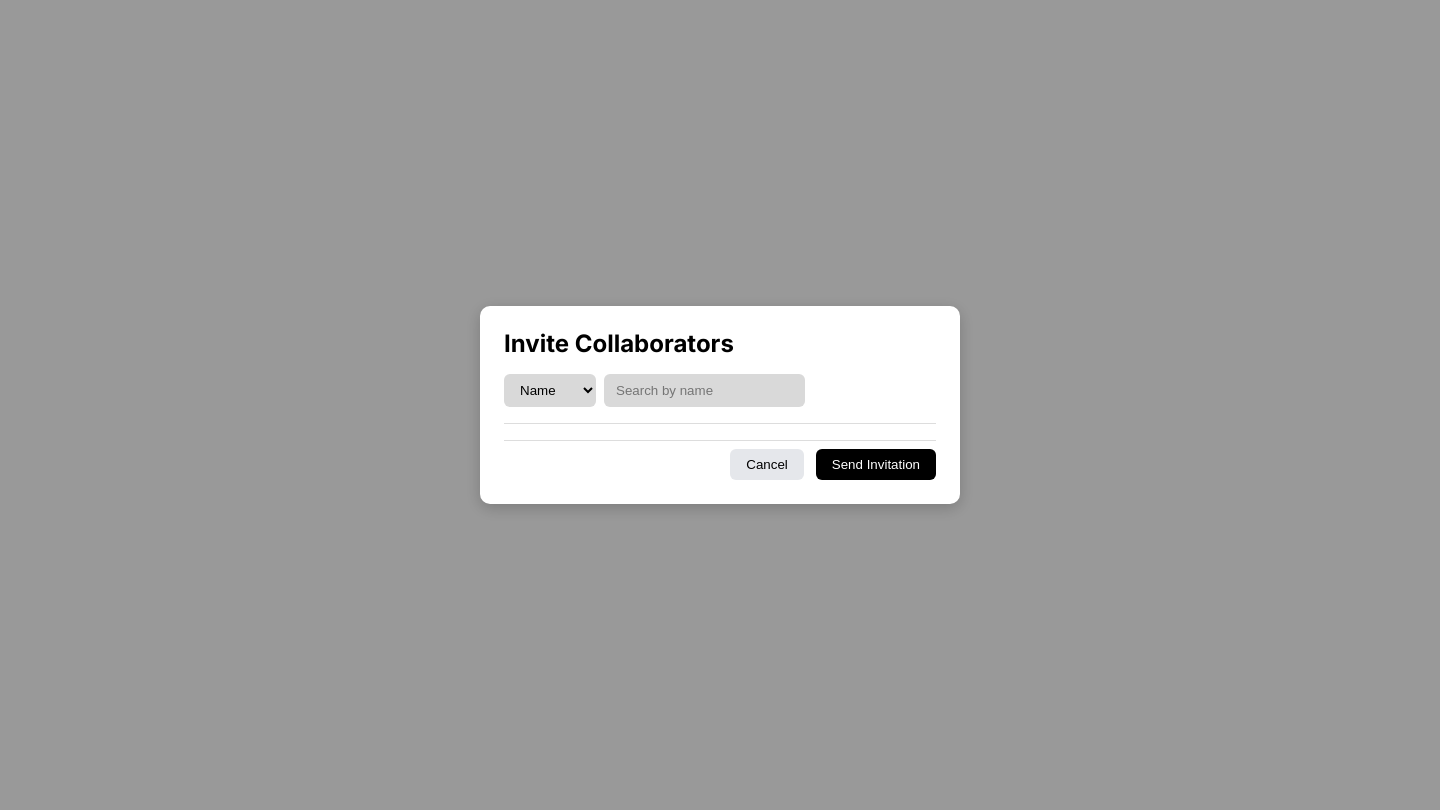
Test case: InviteCollaborators › handles search by skill
Select "Skill set" in the dropdown: (550, 391) [504,374,596,407]
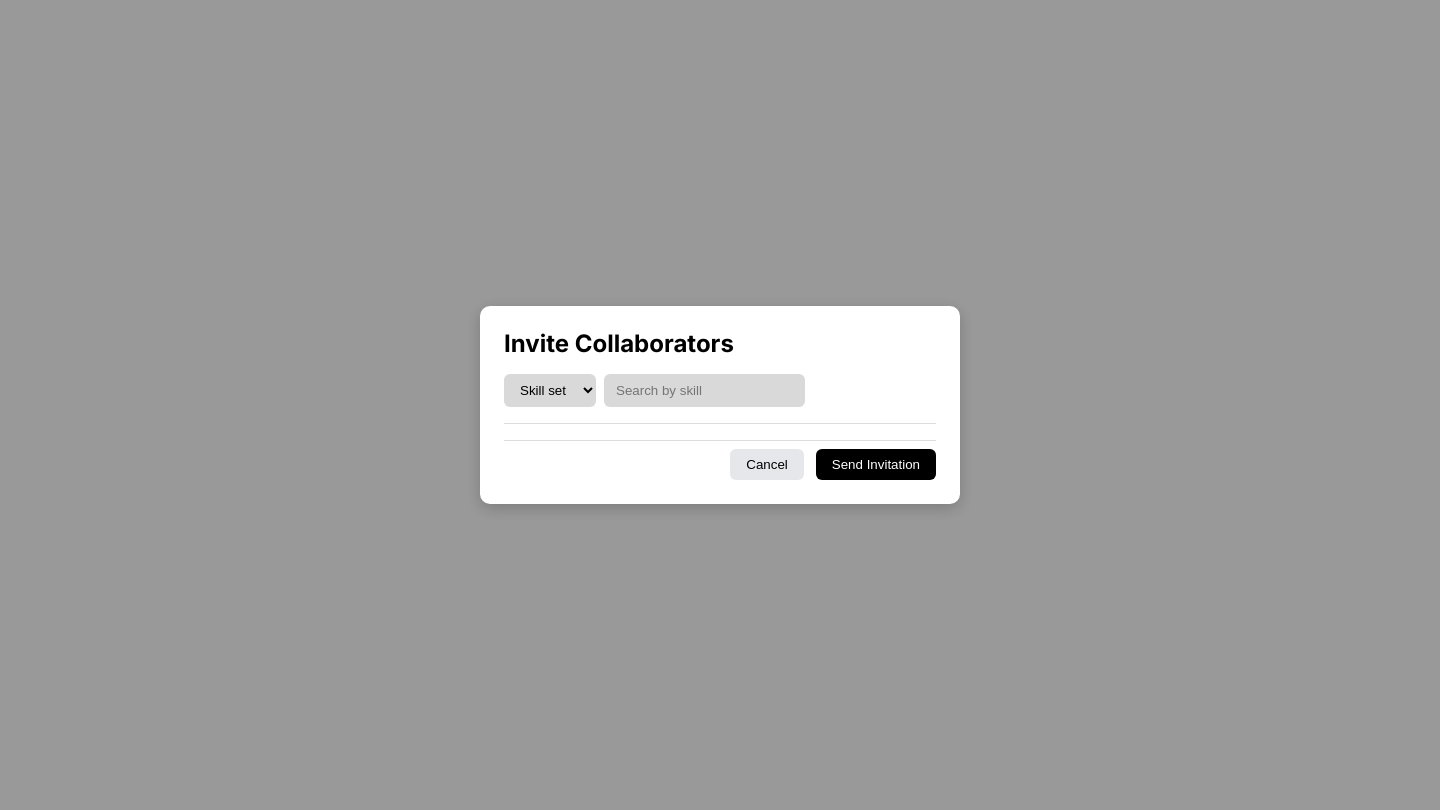
In the field with placeholder "Search by skill": (704, 391) [604,374,805,407], type "AI"
Wait 300 ms
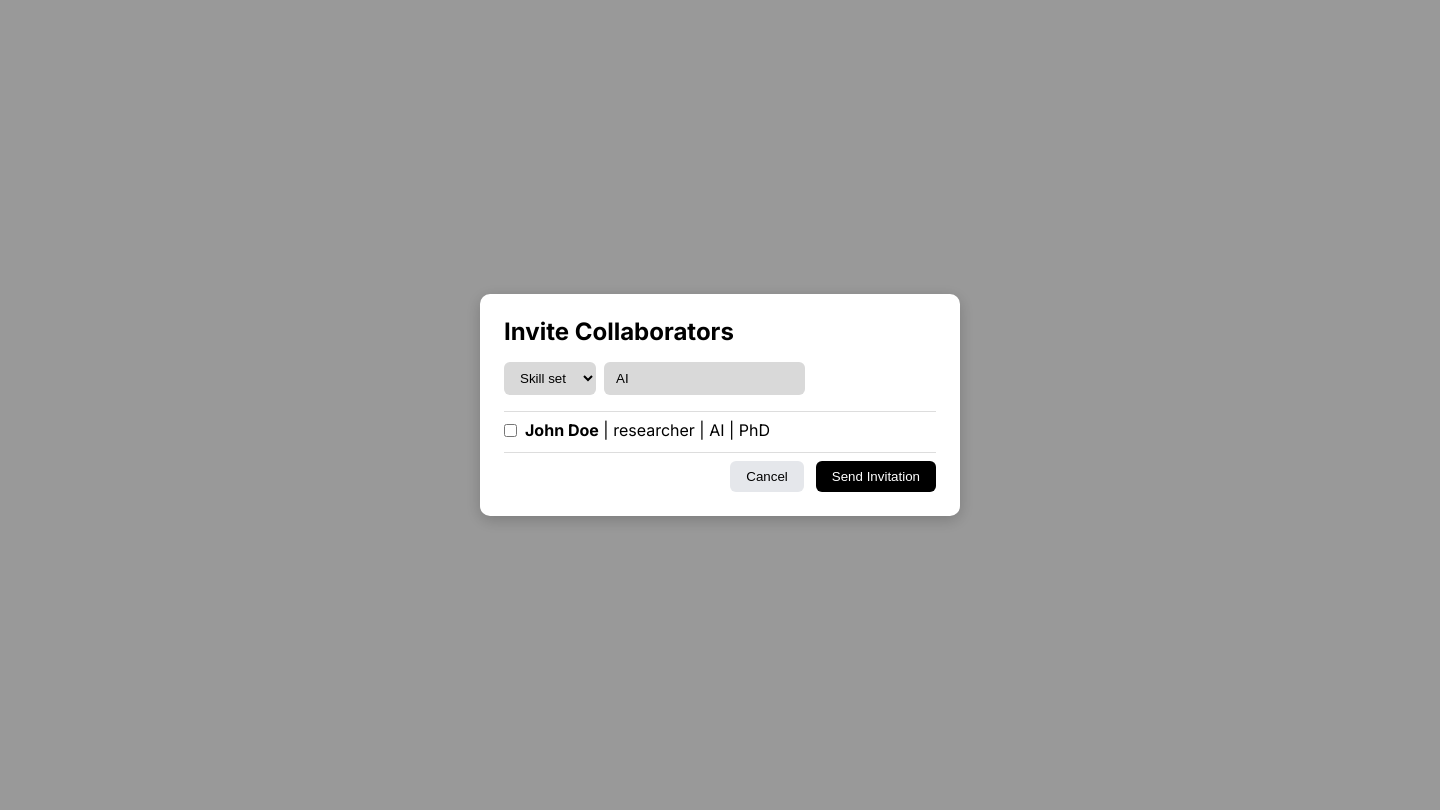
Expected: the element with test id "user-section" is shown, [504,420,770,440]
